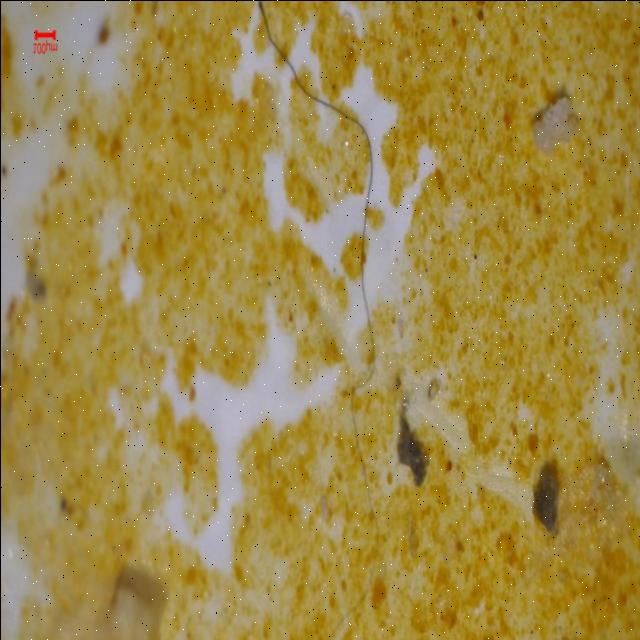Fibre: (352, 106, 376, 382)
